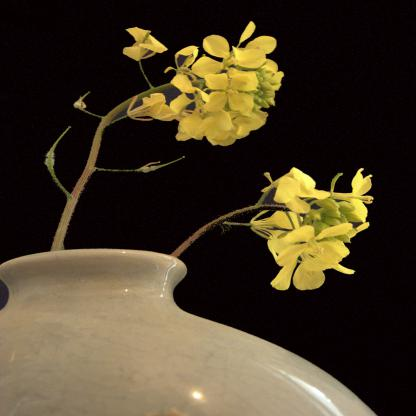vase: (0, 250, 379, 416)
